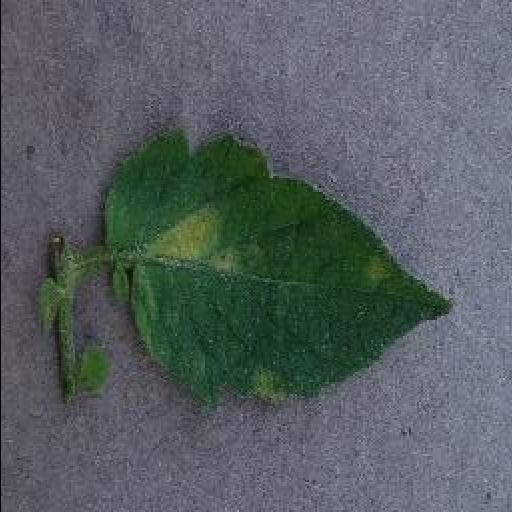disease_tomato: (99, 132, 457, 414)
